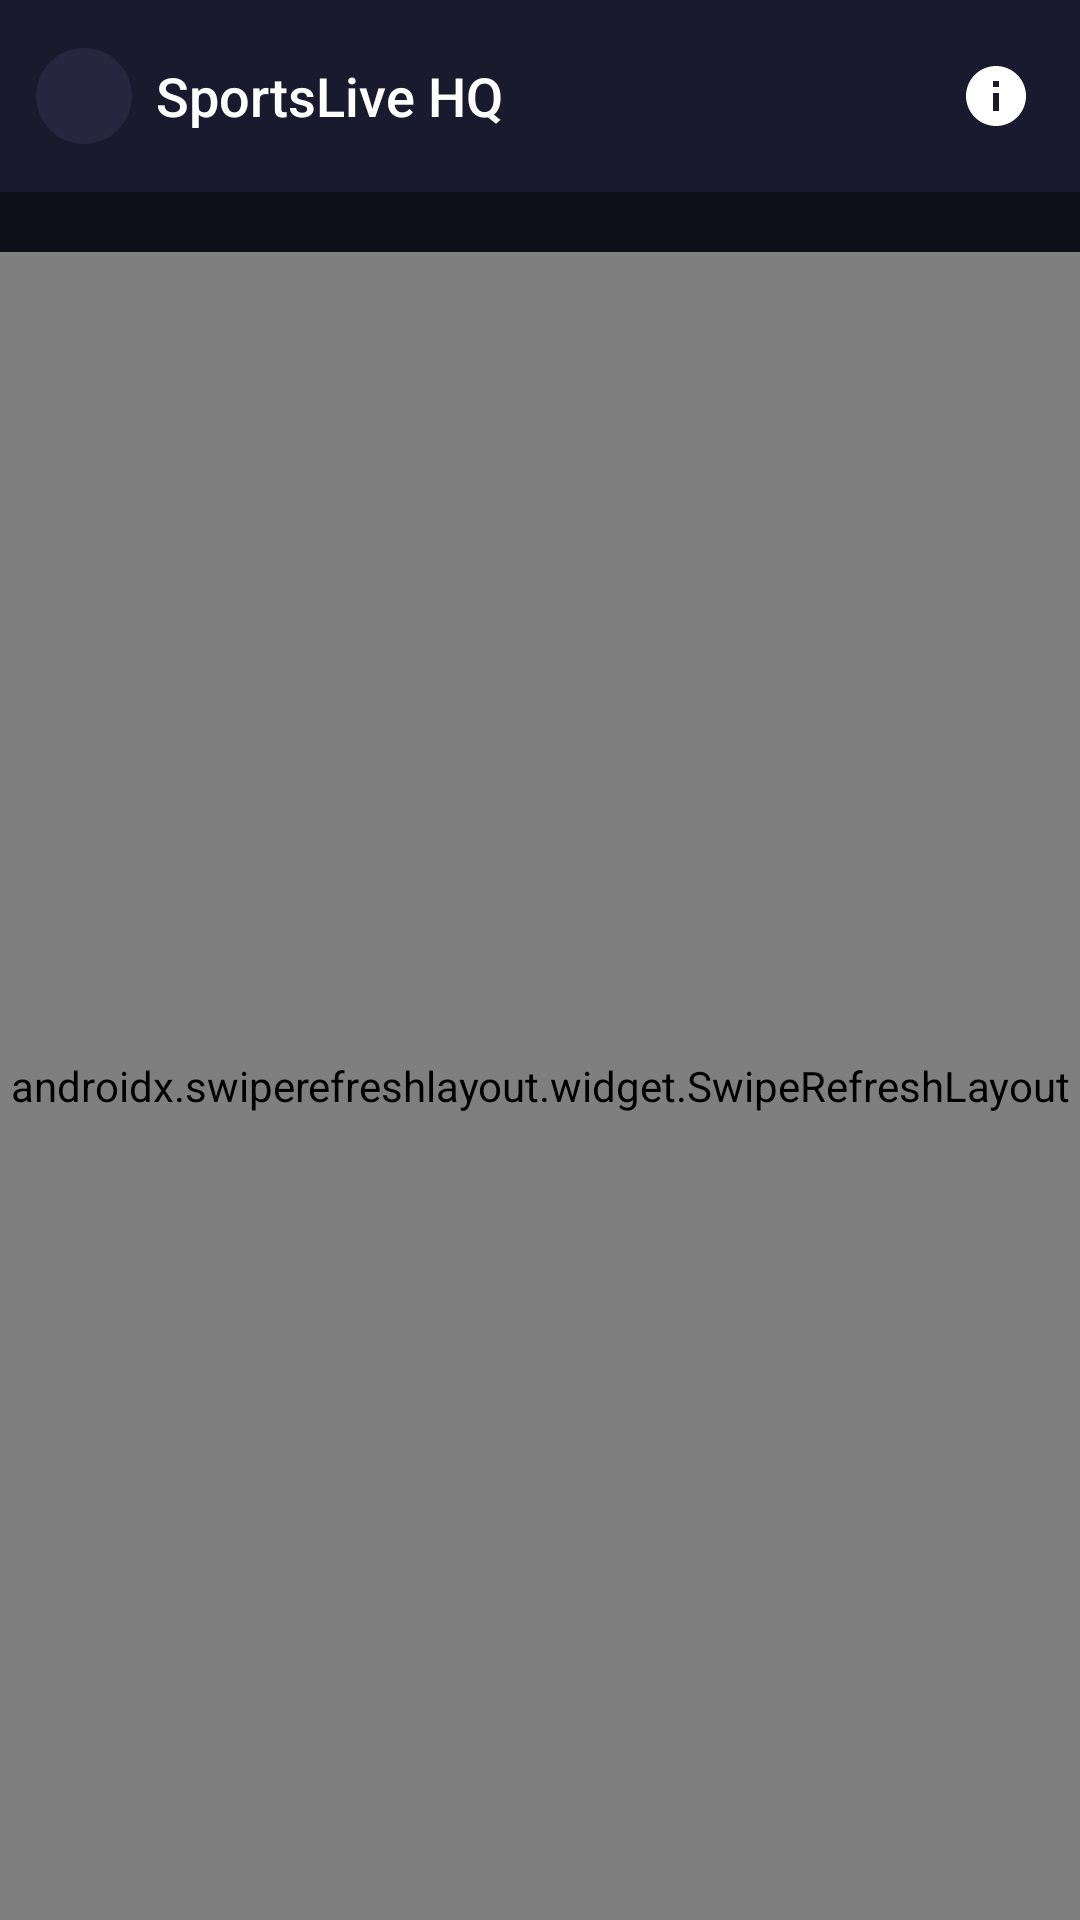

Icons on this 1080 × 1920 Android screen, each with its box as (x1, y1, x2, y2):
App information: (966, 66, 1026, 126)
